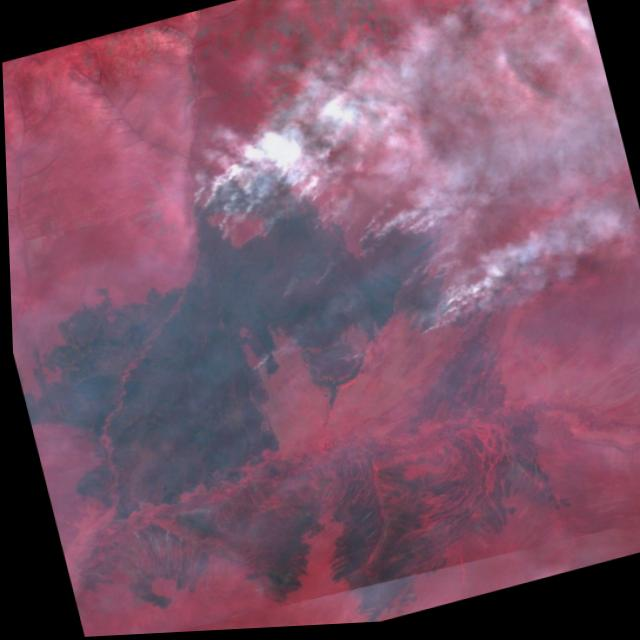fire: (272, 150, 347, 239), (349, 198, 446, 258), (403, 280, 484, 346), (184, 171, 246, 256), (237, 165, 282, 252)
